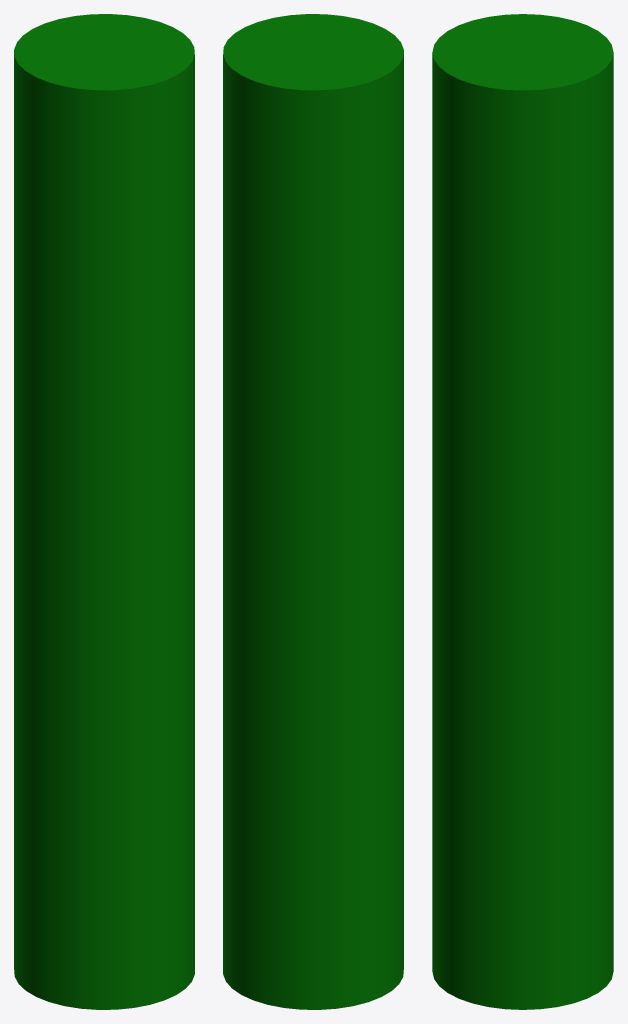
File: Image-1711348063805-2281405376464_73-MWOBST.fbx
The picture shows the model from 3 angles, left to right: view 1: azimuth 30°, elevation 25°; view 2: azimuth 150°, elevation 25°; view 3: azimuth 270°, elevation 25°; orthographic projection.
Parts seen in each view (by area): view 1: /73-MW97F-OBST; view 2: /73-MW97F-OBST; view 3: /73-MW97F-OBST.
Part boxes in pixels (left/top/right/bottom): /73-MW97F-OBST: left=14, top=14, right=194, bottom=1009; /73-MW97F-OBST: left=223, top=14, right=403, bottom=1009; /73-MW97F-OBST: left=432, top=14, right=613, bottom=1009.
Size of the model in its own units: 0.5 by 0.5 by 2.8.
